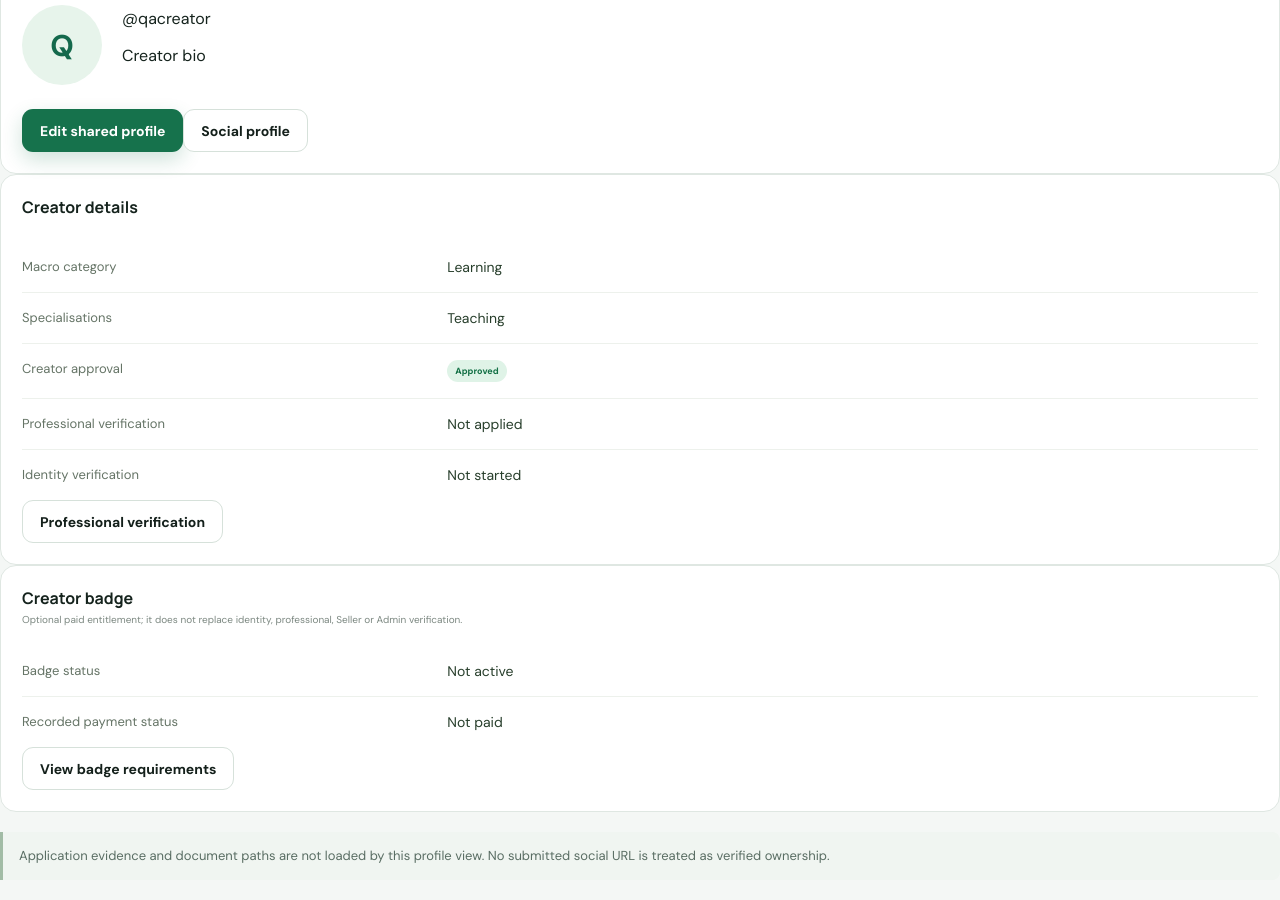
Test: Creator restored UI surfaces › profile shows real fields, shared Social route and no invented badge approval
The width and height of the screenshot is (1280, 900).
(page scrolled)
Check: the text "Creator bio" is shown, box [122, 45, 211, 66]
Check: the text "Learning" is shown, box [447, 258, 502, 276]
Click the button "View badge requirements" at x=128, y=768, box [22, 747, 234, 790]
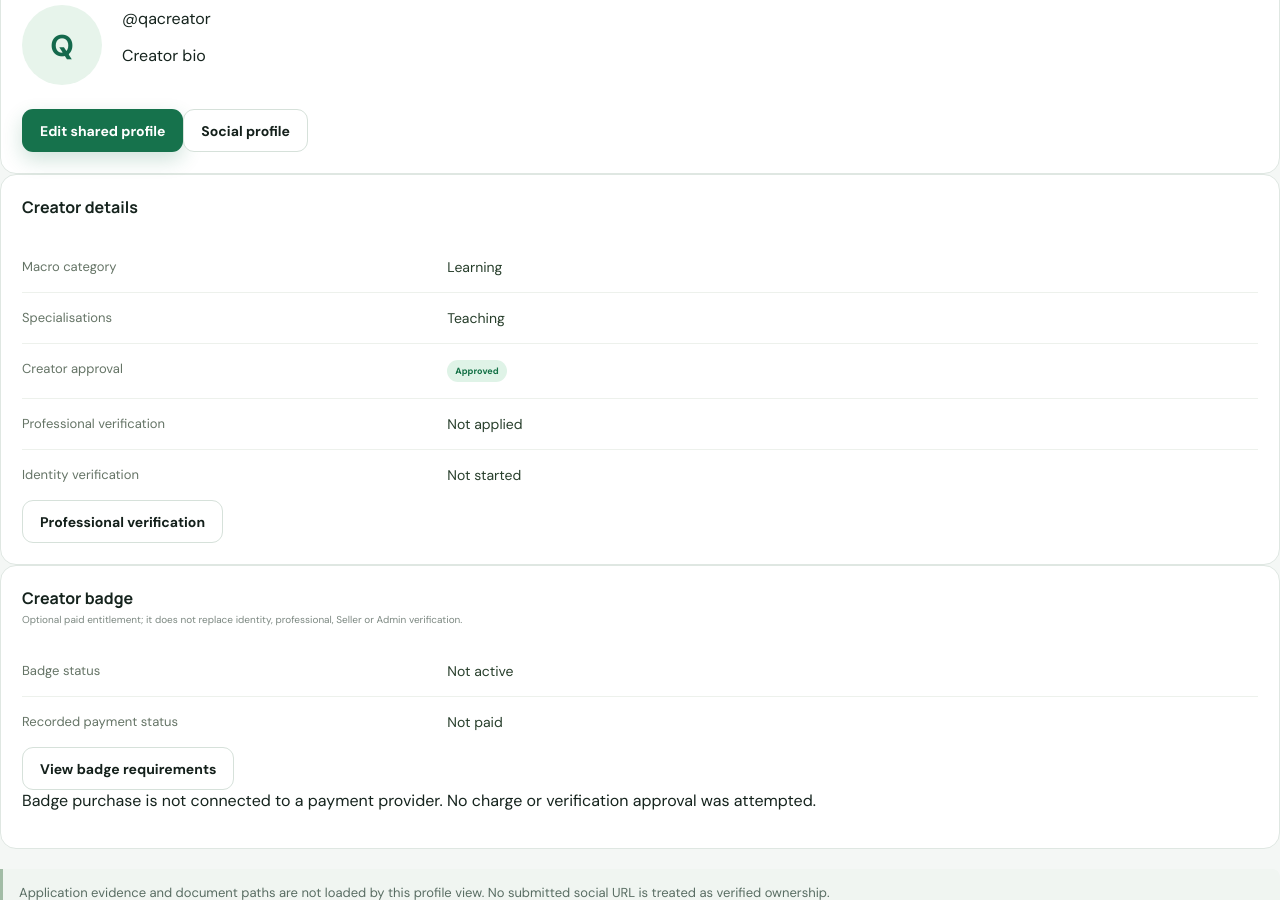
Check: the text "No charge or verification approval" is shown, box [22, 790, 816, 811]
